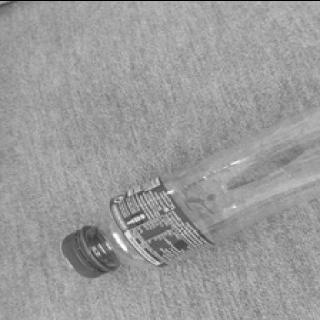plastic_bottles: (59, 108, 320, 284)
